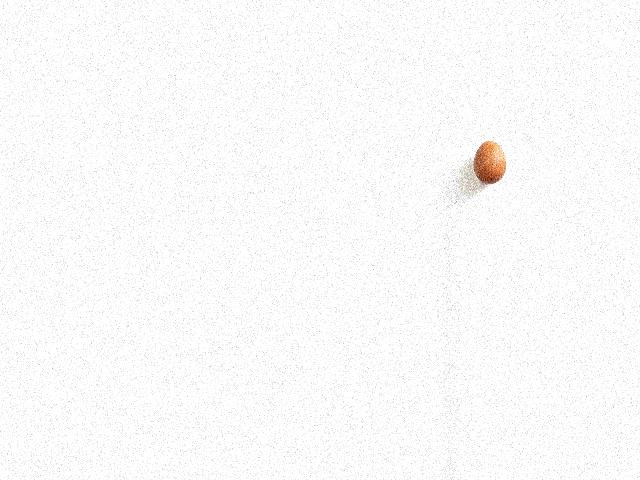egg: (474, 140, 506, 184)
